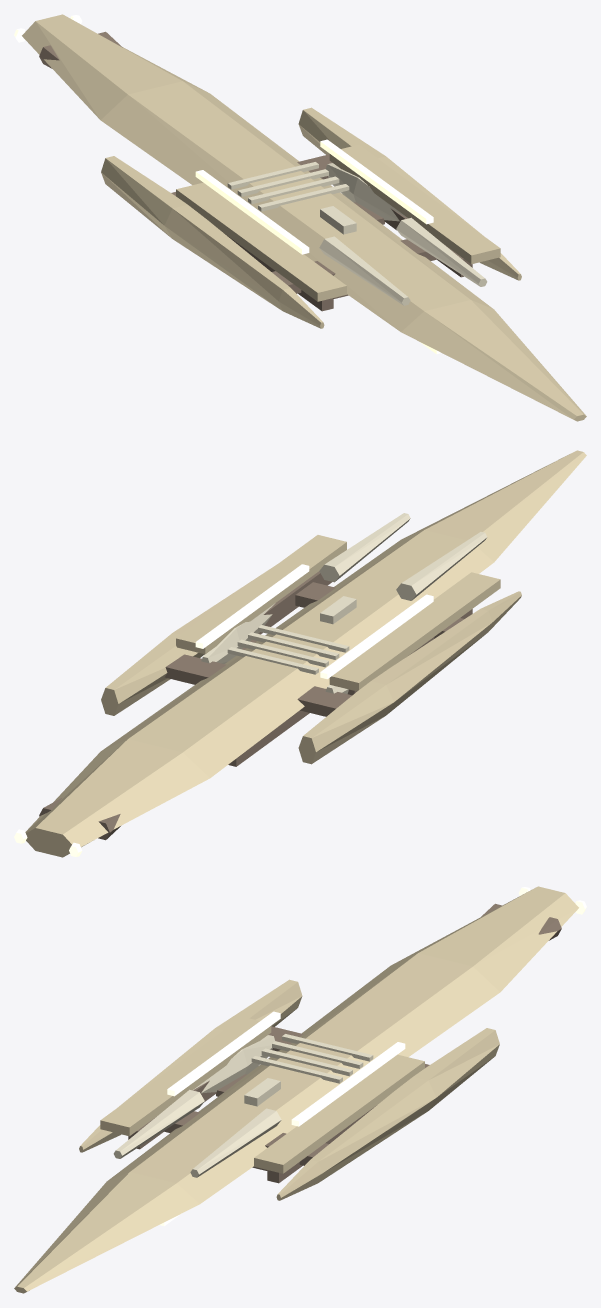
The picture shows the model from 3 angles, top to bottom: view 1: azimuth 30°, elevation 25°; view 2: azimuth 150°, elevation 25°; view 3: azimuth 330°, elevation 25°; orthographic projection.
Size of the model in its own units: 5.21 by 1.61 by 21.
